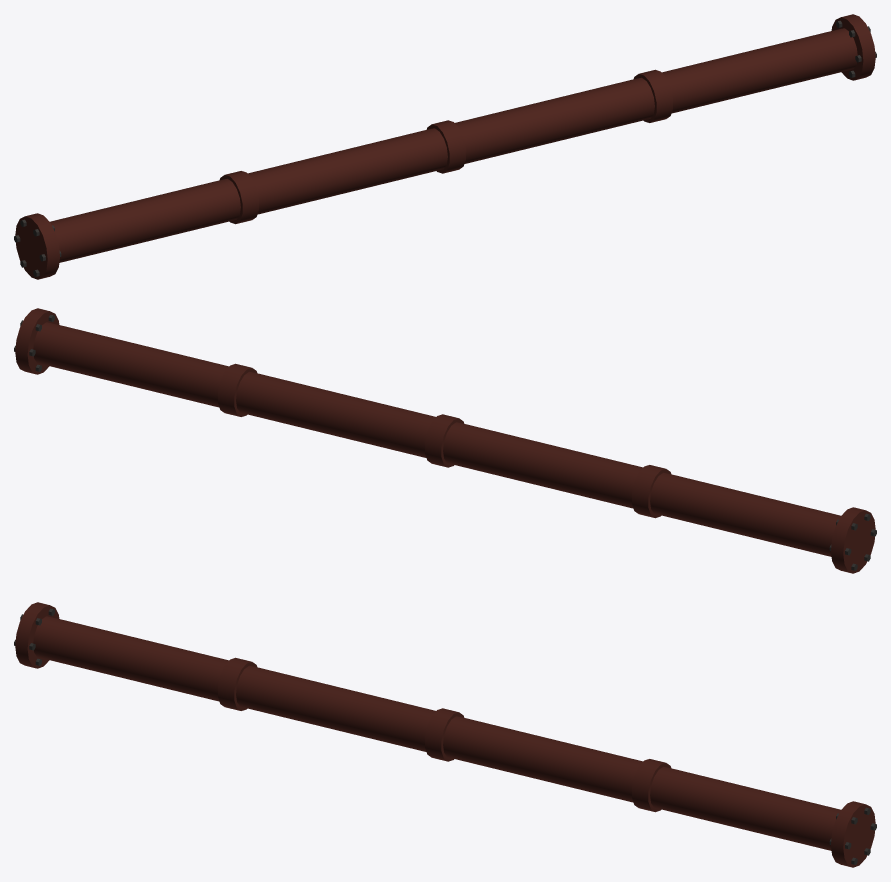
Rendered from PipeLong.fbx.
The picture shows the model from 3 angles, top to bottom: view 1: azimuth 30°, elevation 25°; view 2: azimuth 150°, elevation 25°; view 3: azimuth 330°, elevation 25°; orthographic projection.
Visible parts, largest first — view 1: PipeLong_Pipe; view 2: PipeLong_Pipe; view 3: PipeLong_Pipe.
Part boxes in pixels (box(x1,y1,x2,y2)): PipeLong_Pipe: box(15, 14, 875, 279); PipeLong_Pipe: box(15, 308, 875, 573); PipeLong_Pipe: box(15, 602, 875, 867).
Bounding box in the file's own units: 2.01 × 0.136 × 0.136.
